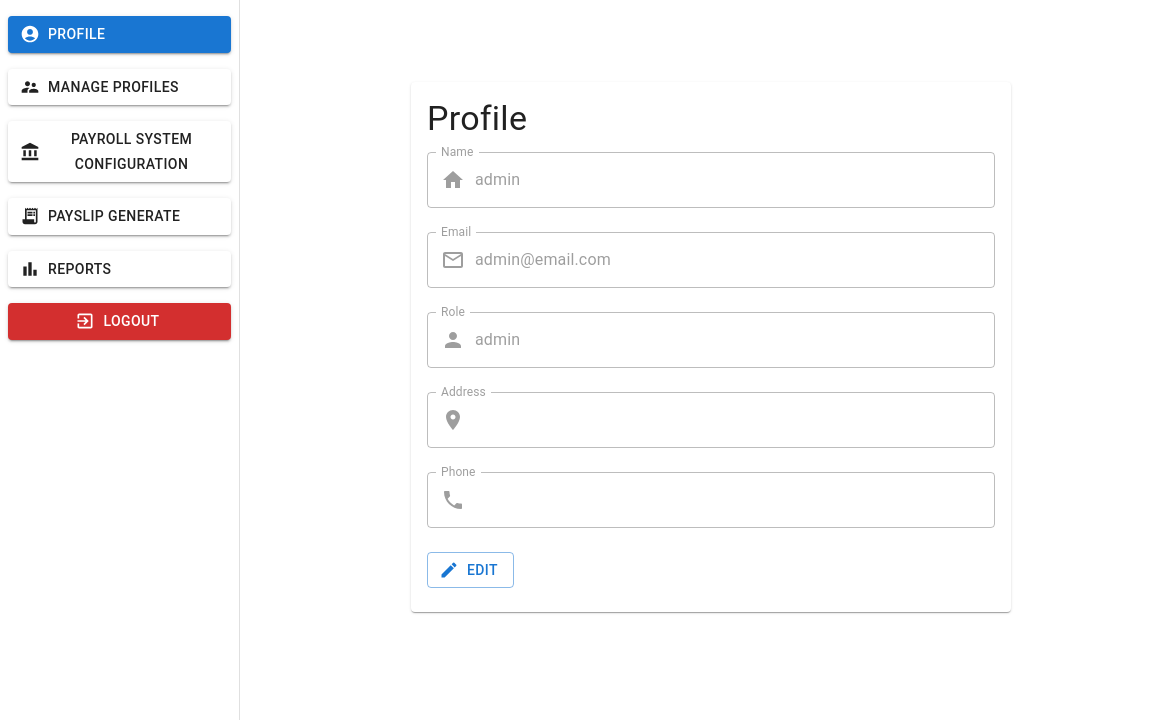
Admin Tests › Should edit and save profile details
Click the button named "edit": (471, 571) 427,552 -> 514,589
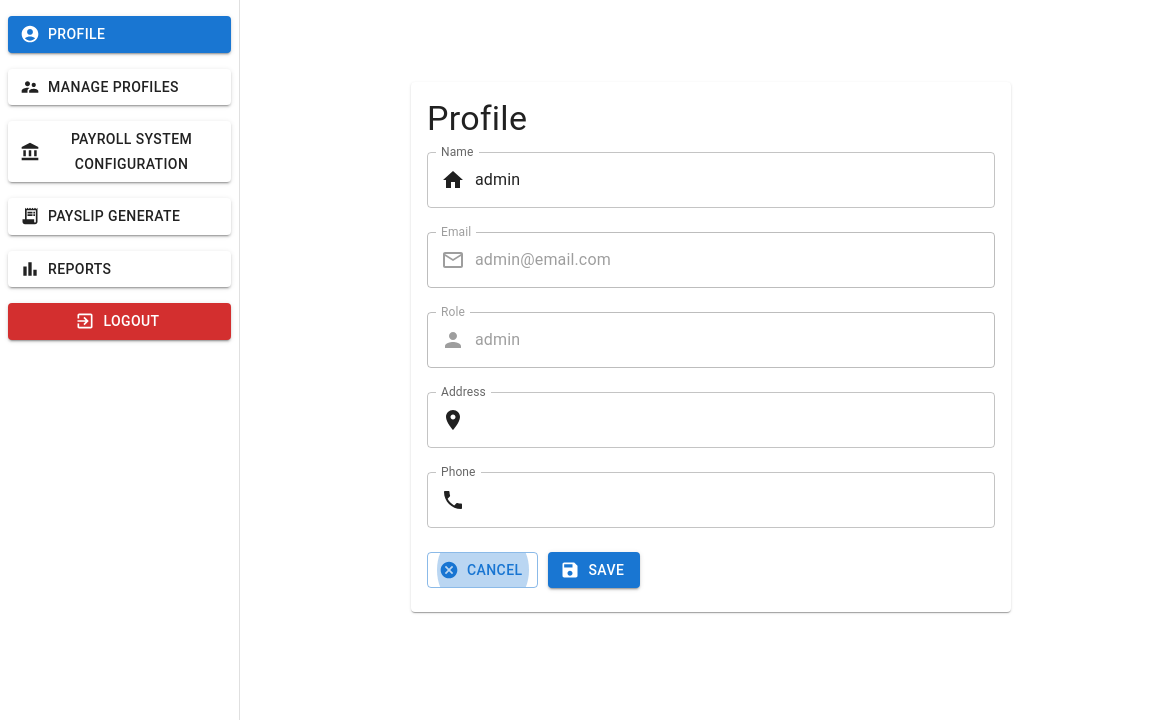
Replace the text in the field named "name" with "Jane Doe": (735, 180) 475,152 -> 995,208
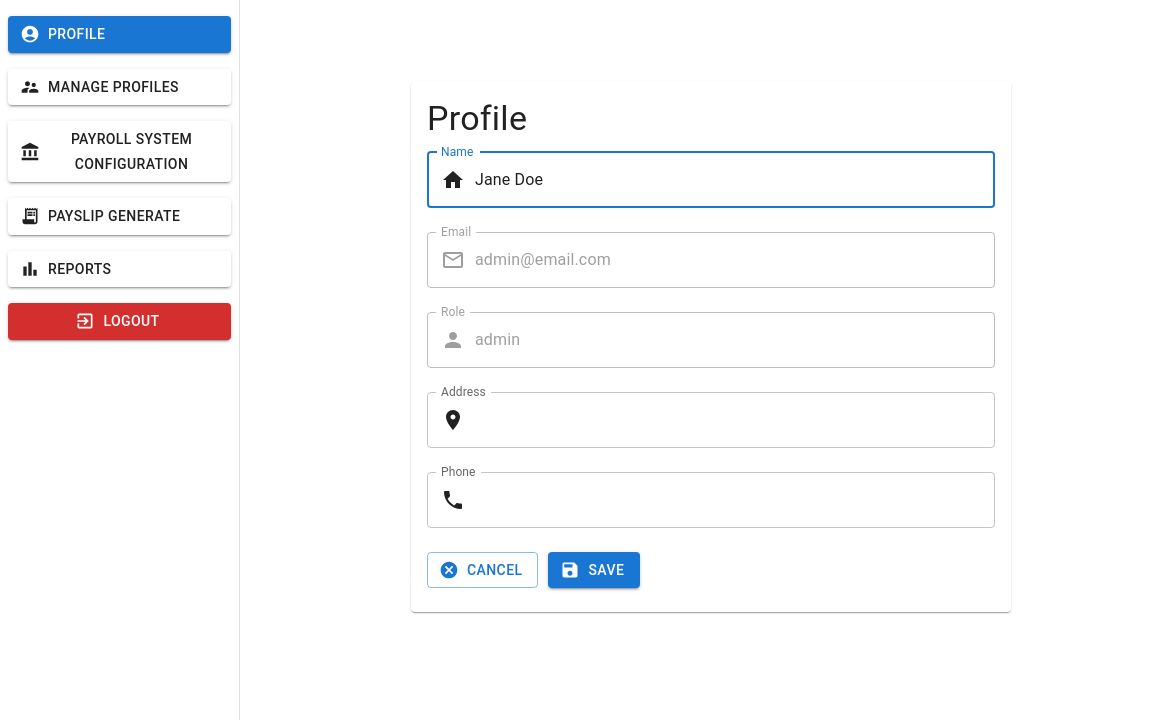
In the field named "address": (735, 420) 475,392 -> 995,448, type "456 New Address St"
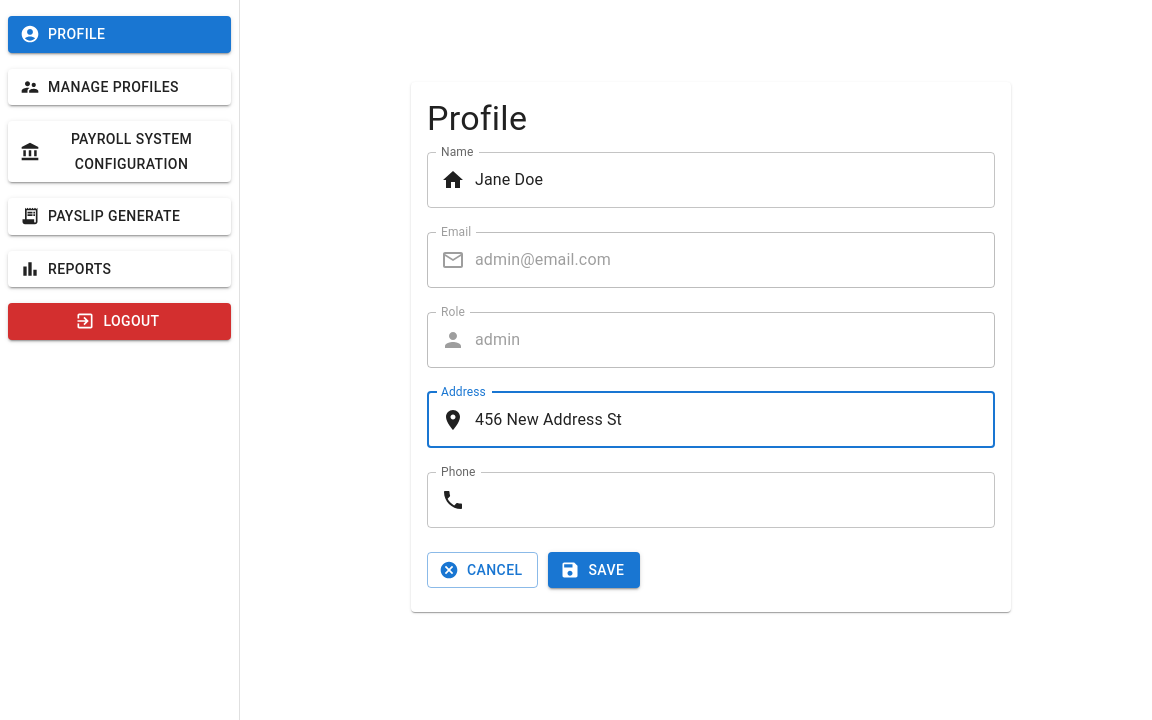
In the field named "phone": (735, 500) 475,472 -> 995,528, type "9876543210"
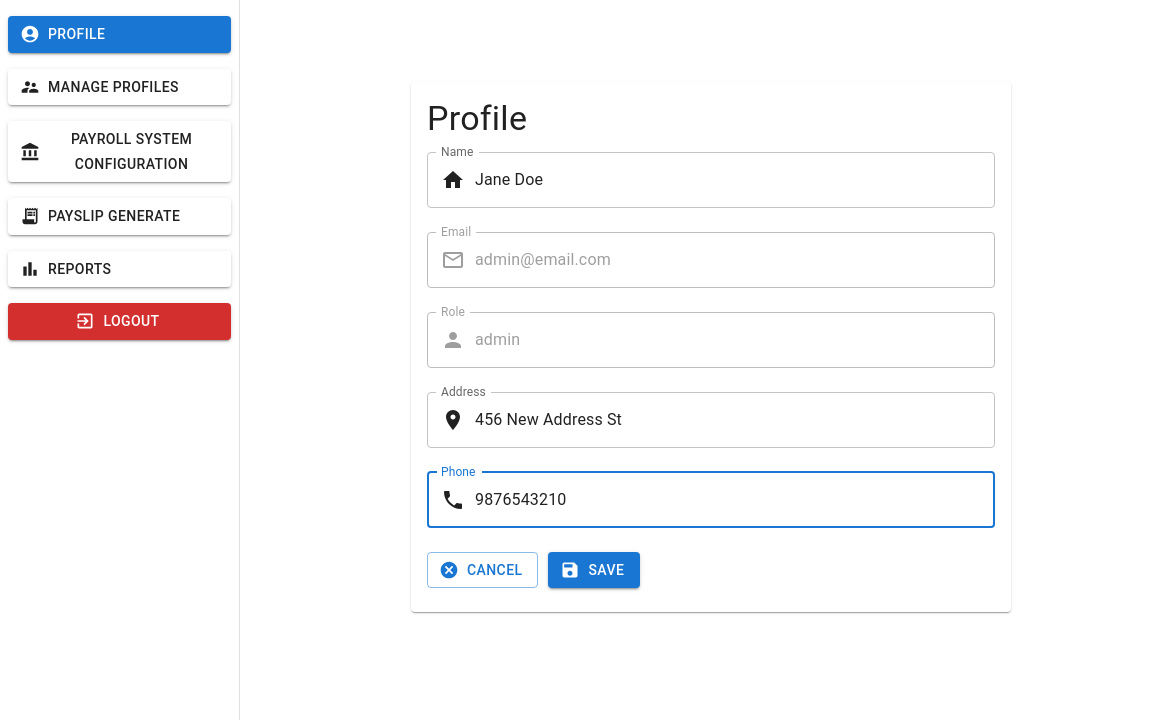
Click the button named "save": (595, 571) 549,552 -> 641,589
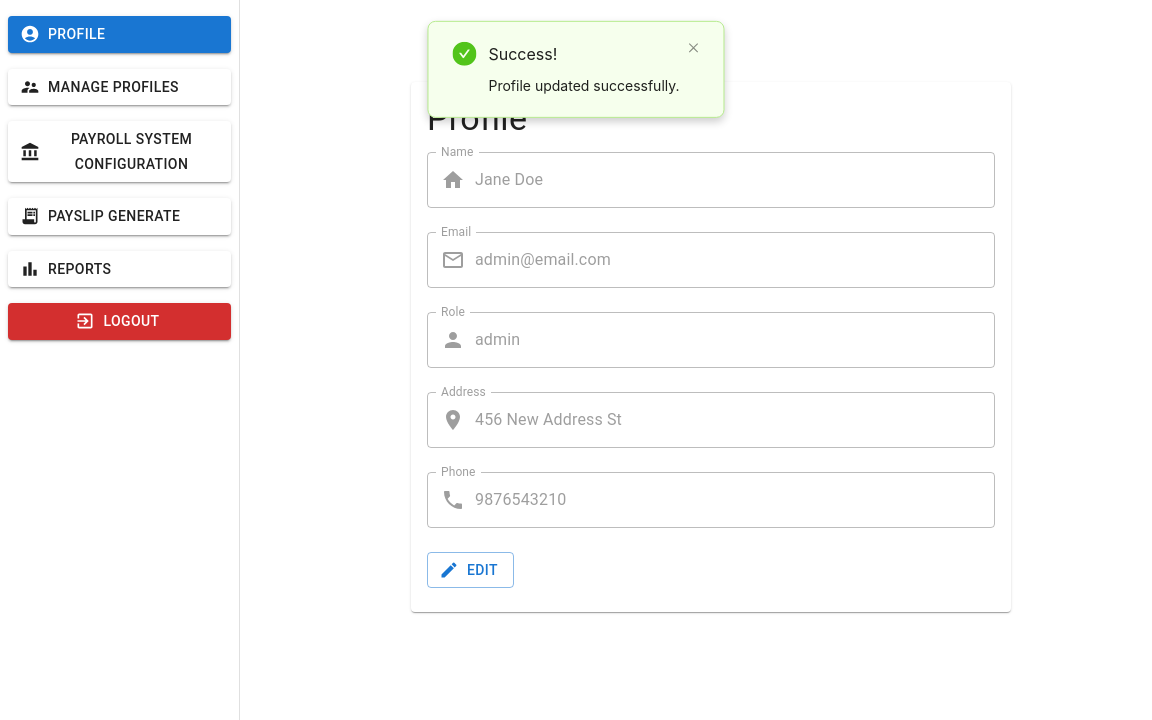
Now the field named "name" holds "Jane Doe", box 475,152 -> 995,208
Now the button named "edit" reads "Edit", box 427,552 -> 514,589
